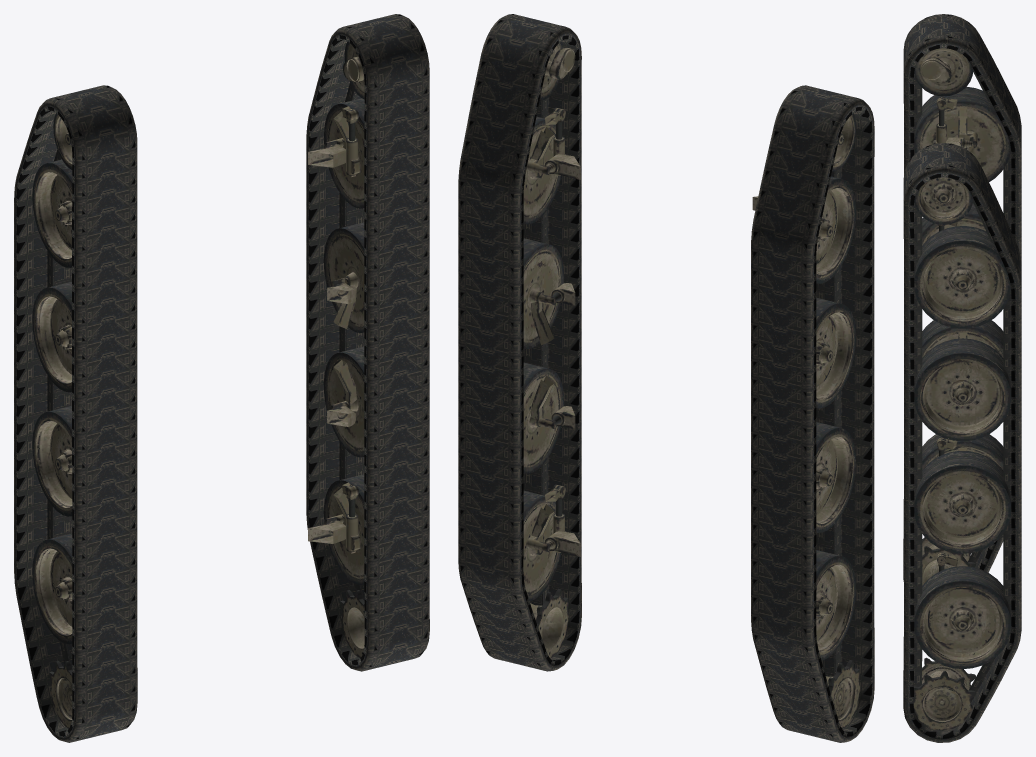
Rendered from Chassis.glb.
The picture shows the model from 3 angles, left to right: view 1: azimuth 30°, elevation 25°; view 2: azimuth 150°, elevation 25°; view 3: azimuth 270°, elevation 25°; orthographic projection. The views are drawn at different scales.
Visible parts, largest first — view 1: set_1_group_0, set_0_group_0, set_3_group_0, set_2_group_0; view 2: set_1_group_0, set_0_group_0, set_3_group_0, set_2_group_0; view 3: set_3_group_0, set_0_group_0, set_2_group_0, set_1_group_0.
Part boxes in pixels (x1,y1,x2,y2): set_1_group_0: (14, 85, 137, 742); set_0_group_0: (306, 14, 429, 671); set_3_group_0: (308, 41, 364, 658); set_2_group_0: (32, 113, 72, 728); set_1_group_0: (751, 85, 874, 742); set_0_group_0: (458, 14, 581, 671); set_3_group_0: (523, 41, 580, 658); set_2_group_0: (752, 113, 859, 728); set_3_group_0: (913, 177, 1011, 730); set_0_group_0: (903, 143, 1021, 742); set_2_group_0: (914, 48, 1010, 585); set_1_group_0: (903, 14, 1021, 581).
Size of the model in its own units: 3.1 by 5.36 by 0.9956.
Materials: 4 (4 with a texture image).
